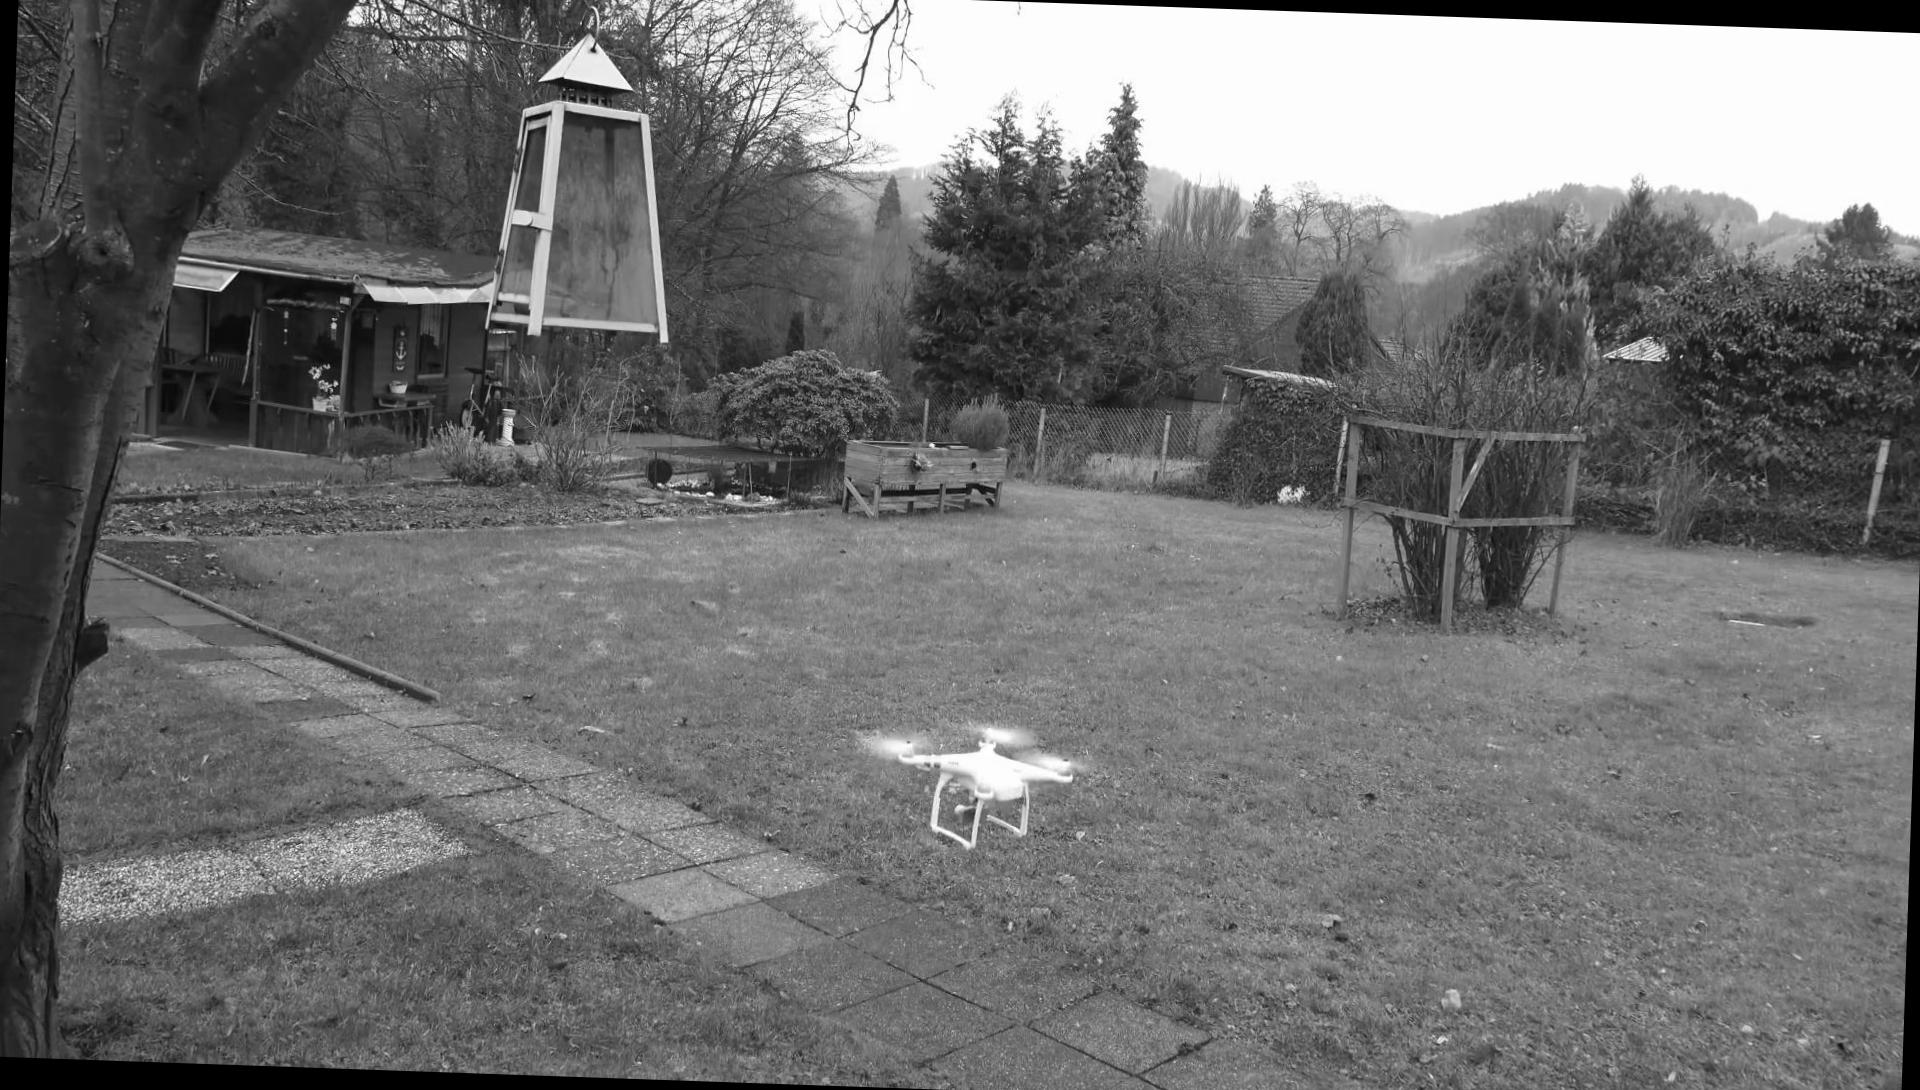drone: (864, 710, 1089, 854)
